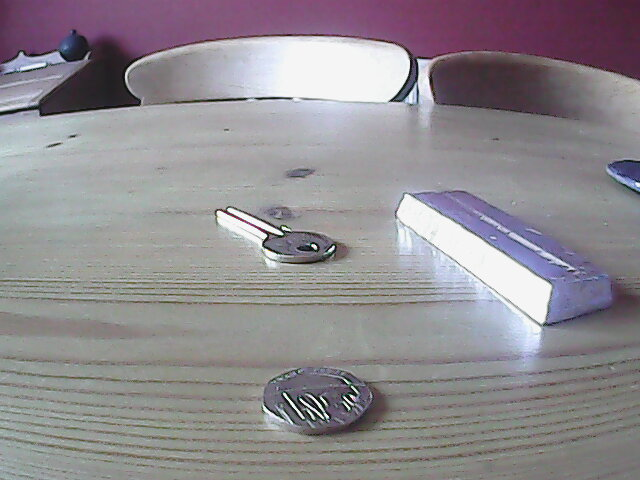Coin: (259, 362, 374, 436)
Foil: (394, 186, 614, 329)
Key: (211, 204, 340, 267)
